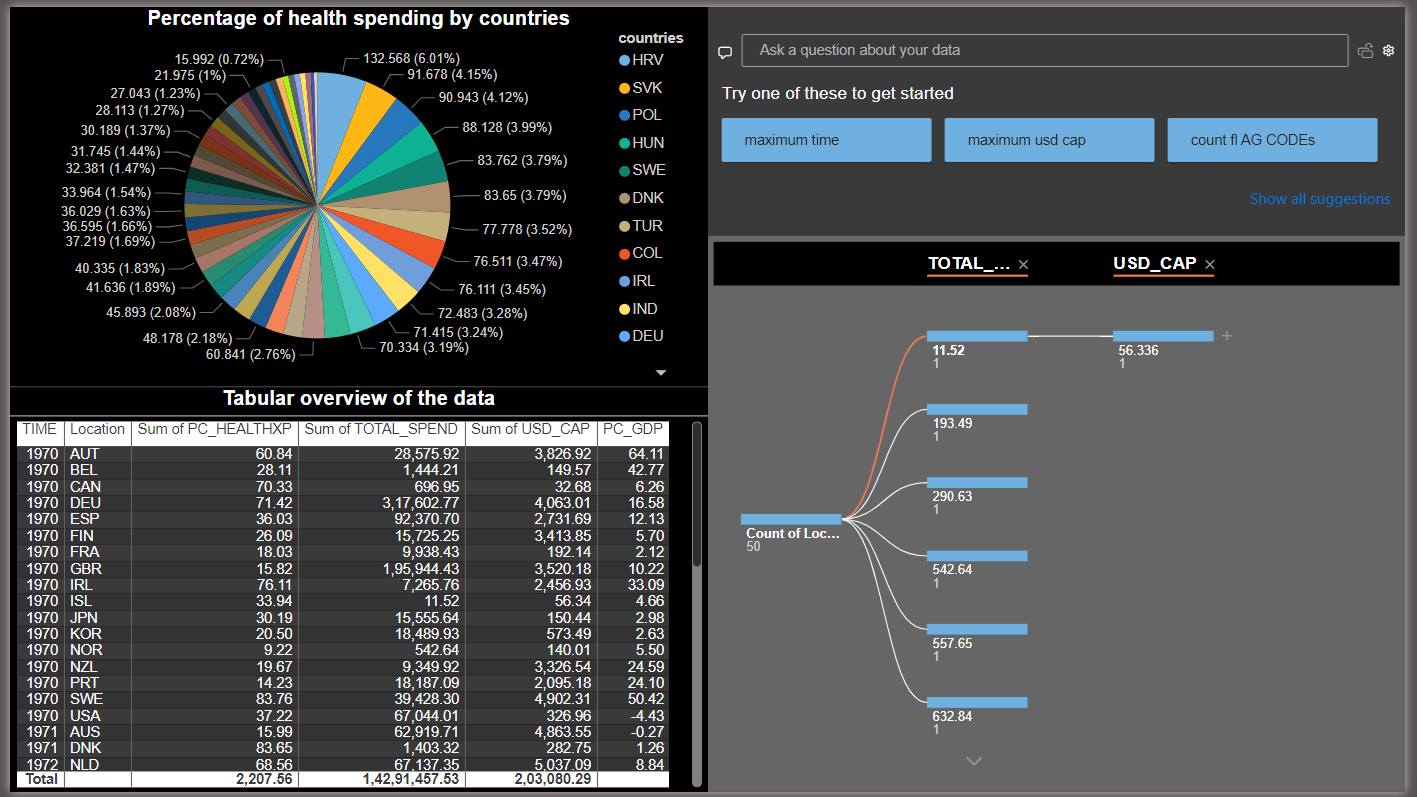

The page's visual inventory and layout, read from the dashboard file:
{"tool":"powerbi","page":{"name":"Page 1","canvas":[1280,720],"ordinal":0},"visuals":[{"type":"qnaVisual","box":[640,0,640,210],"z":0},{"type":"decompositionTreeVisual","fields":{"Analyze":["CountNonNull(drug data.Location)"],"ExplainBy":["drug data.TOTAL_SPEND","drug data.USD_CAP","drug data.PC_GDP","drug data.PC_HEALTHXP"]},"box":[640,210,640,510],"z":1000},{"type":"pieChart","fields":{"Category":["drug data.Location"],"Y":["Sum(drug data.PC_HEALTHXP)"]},"box":[0,0,640,347.5],"z":2000},{"type":"tableEx","title":"Tabular overview of the data","fields":{"Values":["drug data.TIME","drug data.Location","Sum(drug data.PC_HEALTHXP)","Sum(drug data.TOTAL_SPEND)","Sum(drug data.USD_CAP)","drug data.PC_GDP"]},"box":[0,348.8,640,371.2],"z":3000}]}

Visuals, with their boxes in screenshot pixels (x1, y1, x2, y2), scaled from the page's 1280x720 canvas onto the 1417x797 screenshot:
qnaVisual: <bbox>708, 0, 1416, 232</bbox>
decompositionTreeVisual - CountNonNull(drug data.Location) x drug data.TOTAL_SPEND: <bbox>708, 232, 1416, 796</bbox>
pieChart - drug data.Location x Sum(drug data.PC_HEALTHXP): <bbox>0, 0, 708, 385</bbox>
"Tabular overview of the data" tableEx: <bbox>0, 386, 708, 796</bbox>
